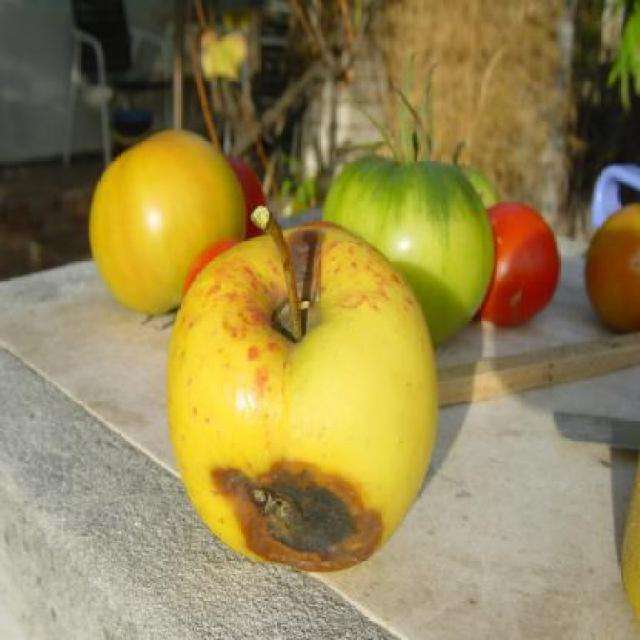Apple pie: (157, 207, 445, 576)
